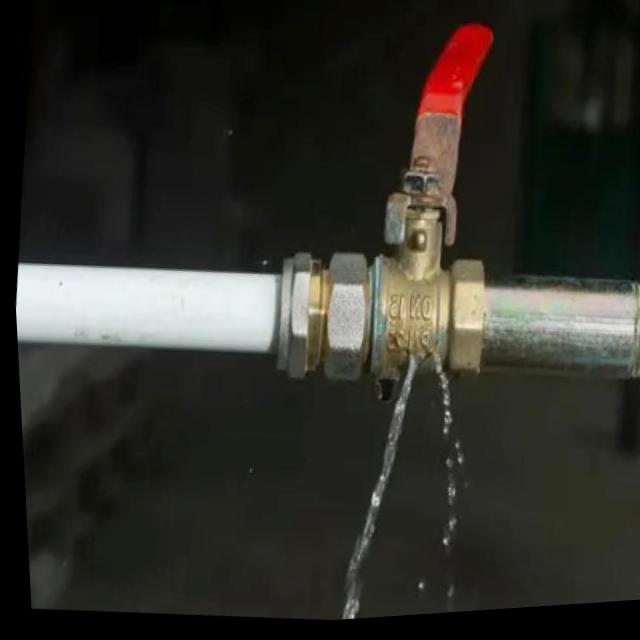leak: (317, 328, 477, 619)
